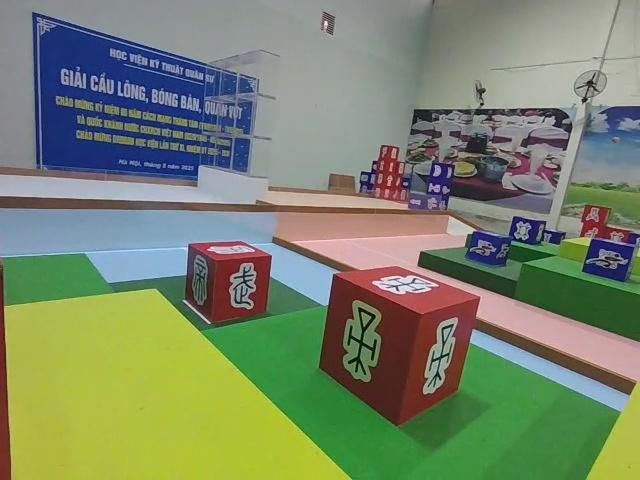R2 Fake: (184, 238, 273, 325)
R2 Real: (318, 264, 481, 427)
